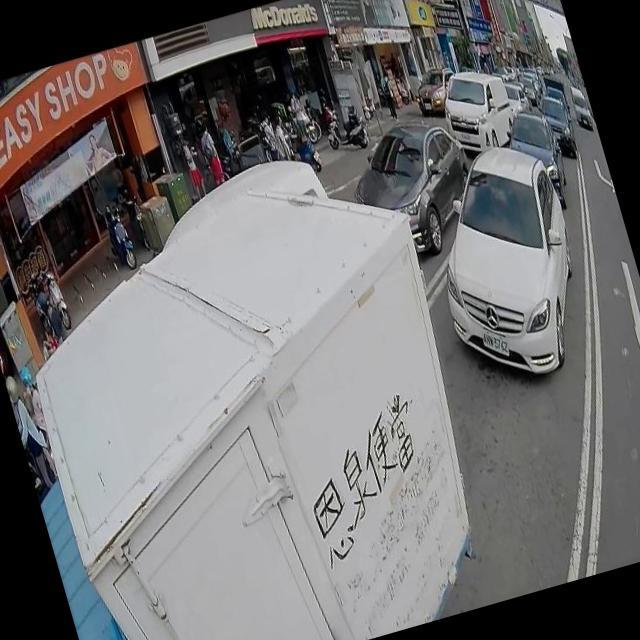person: (2, 368, 56, 494), (30, 283, 67, 348), (194, 118, 228, 188), (178, 132, 207, 198), (284, 88, 312, 146), (270, 114, 298, 166), (256, 116, 282, 164), (378, 72, 398, 120), (186, 106, 208, 142)
